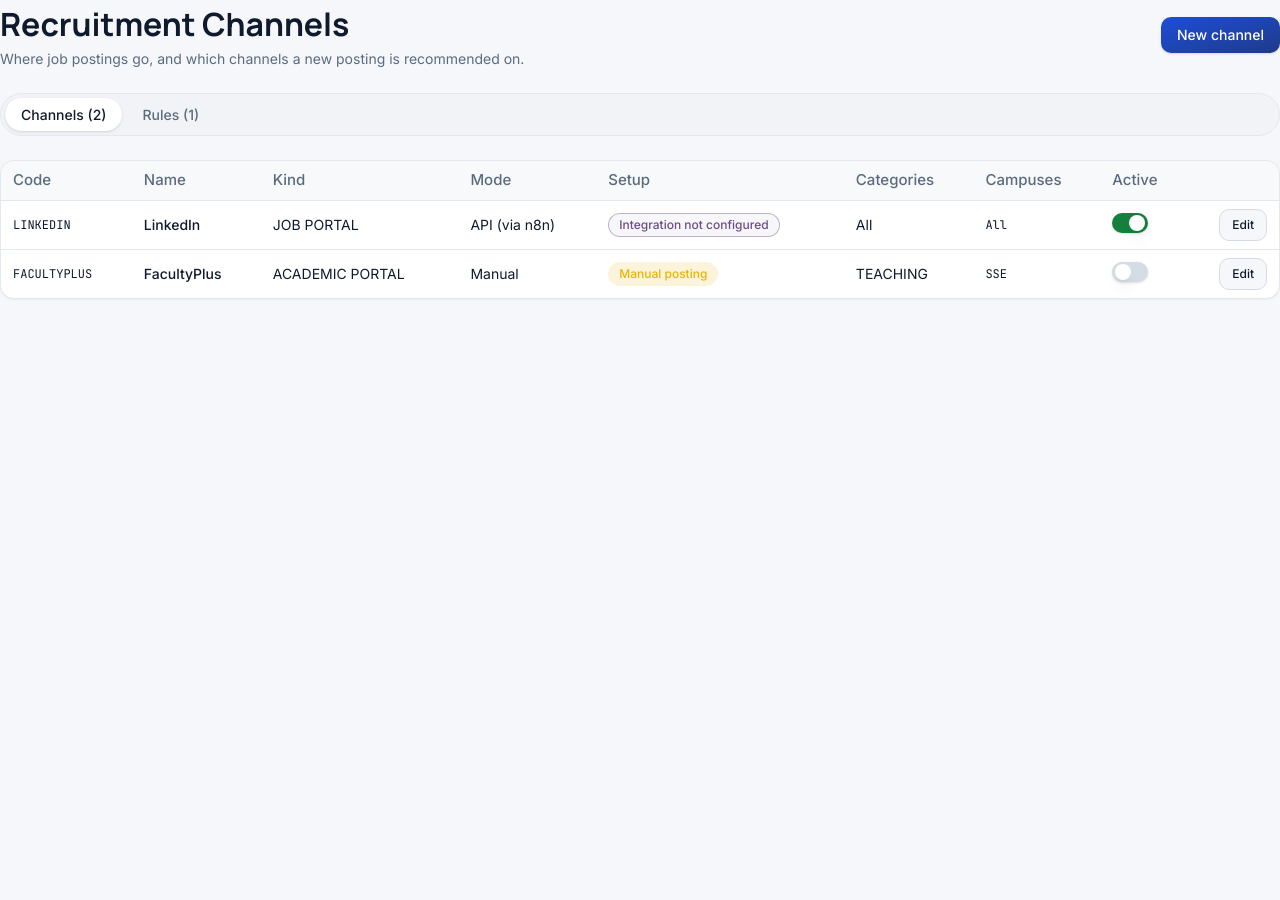
RecruitmentChannelsPage › creates a channel with an upper-cased code and the fields the form collects
Click the button "New channel": [1220, 34] box [1161, 16, 1279, 52]
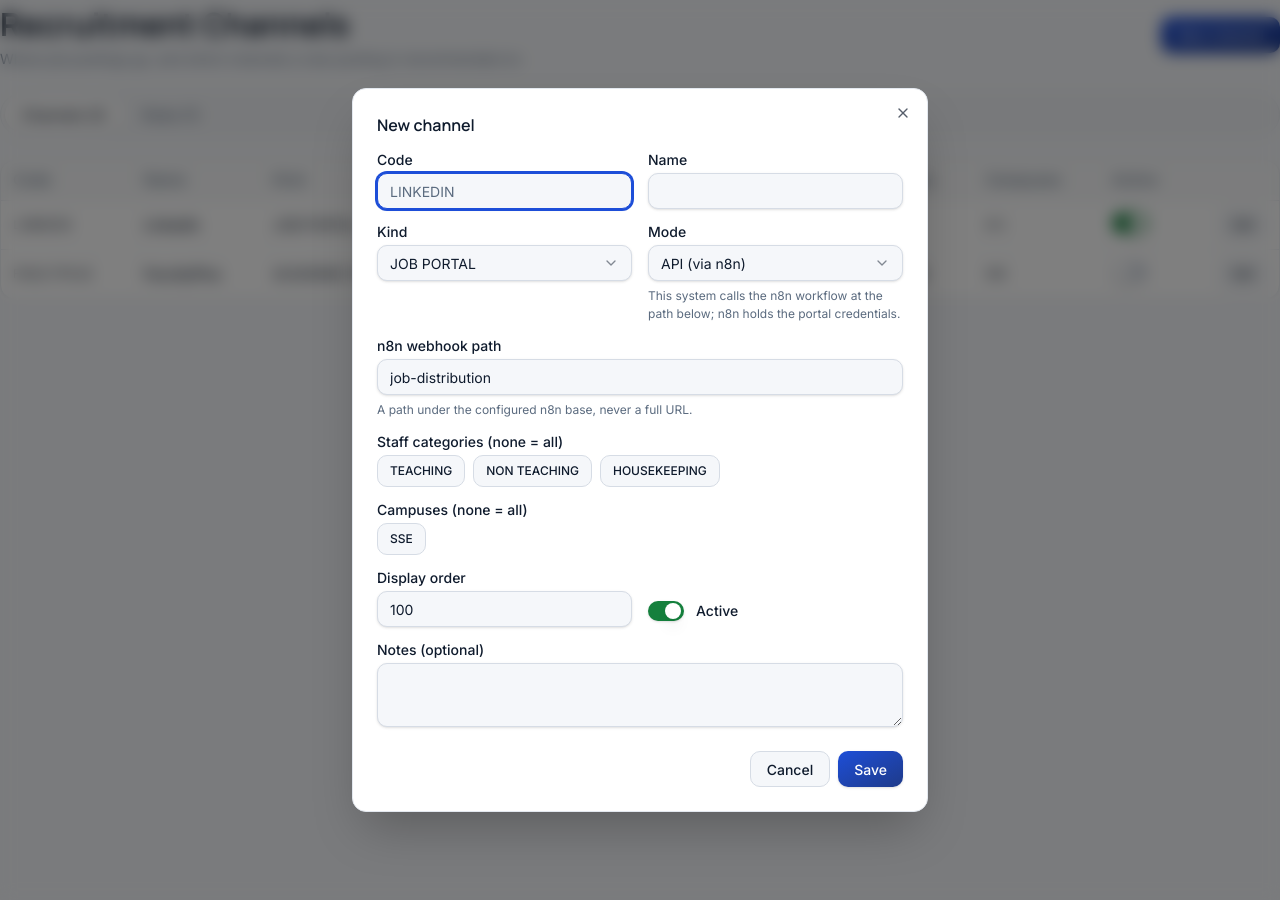
In the field labelled "Code": [504, 191] box [377, 173, 632, 209], type "newportal"
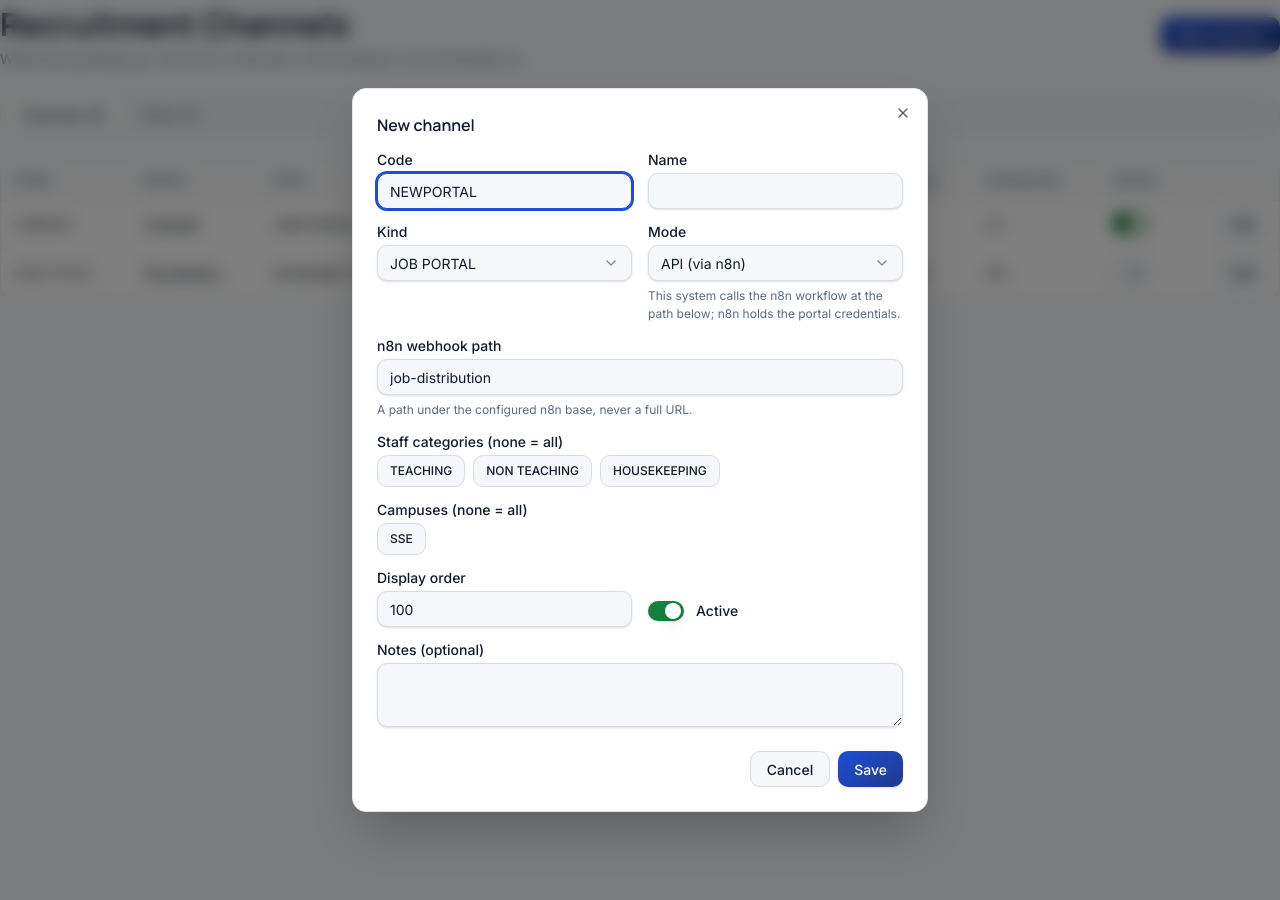
In the field labelled "Name": [776, 191] box [648, 173, 903, 209], type "New portal"
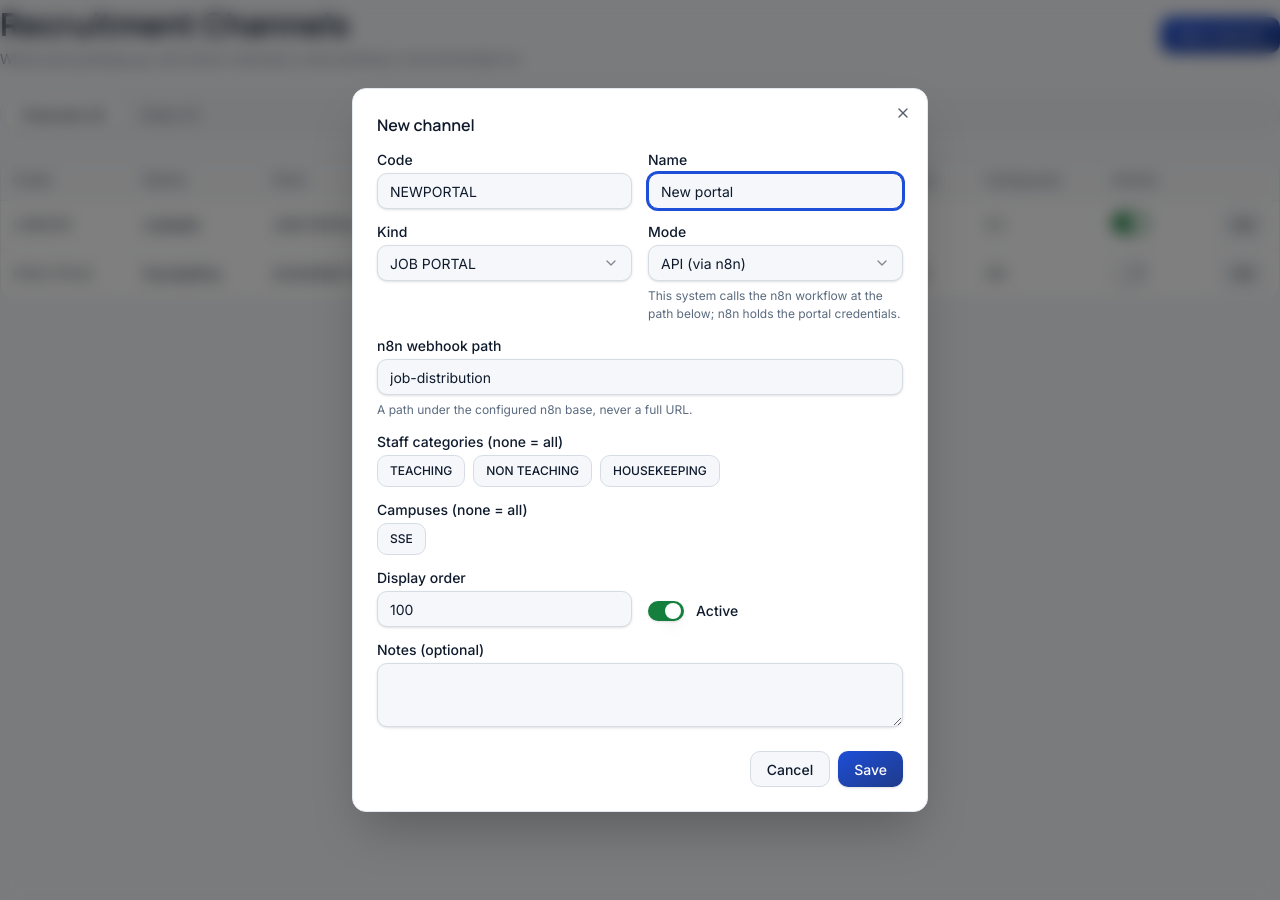
Click the button "NON TEACHING": [533, 471] box [473, 455, 592, 487]
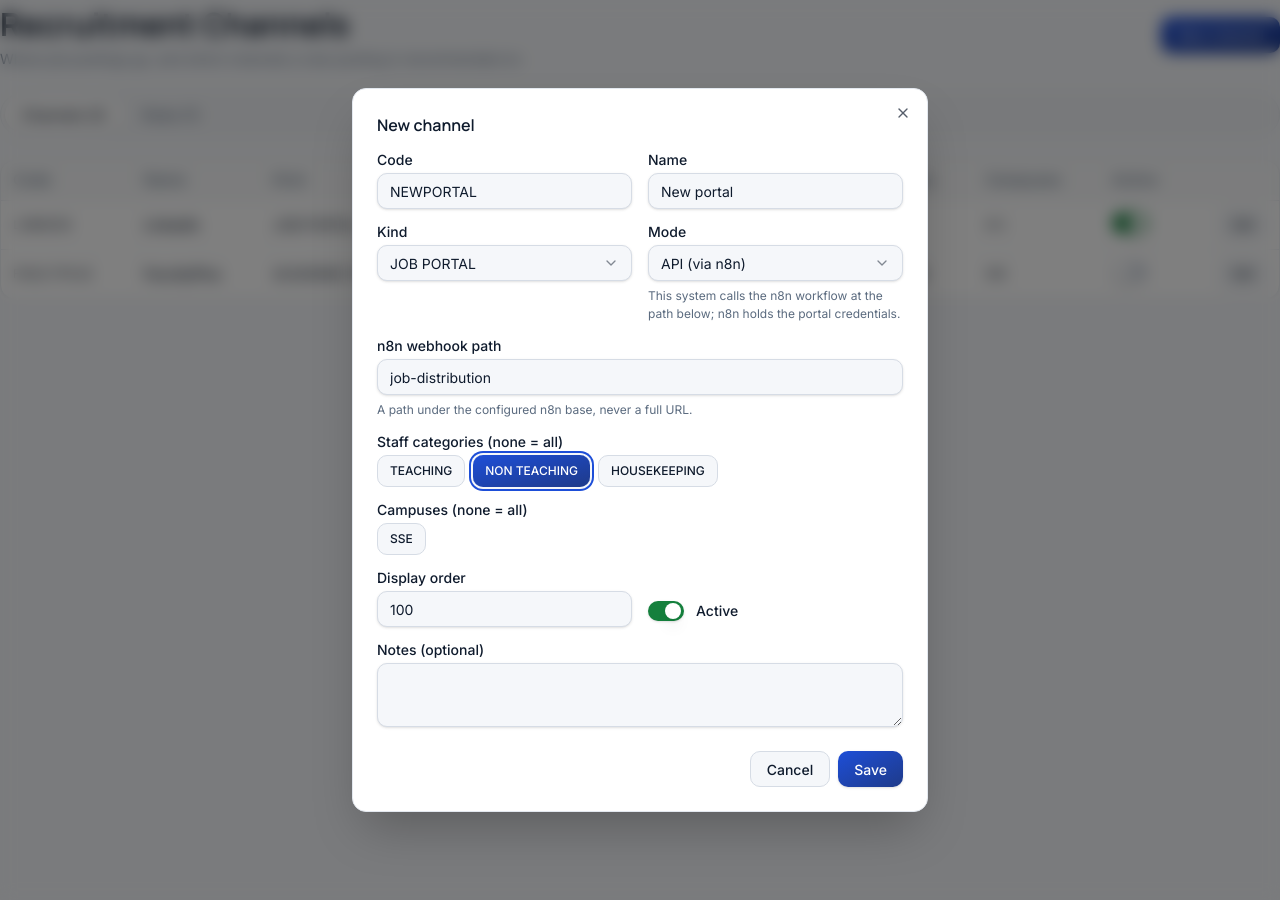
Click the button "Save": [871, 769] box [838, 751, 903, 787]
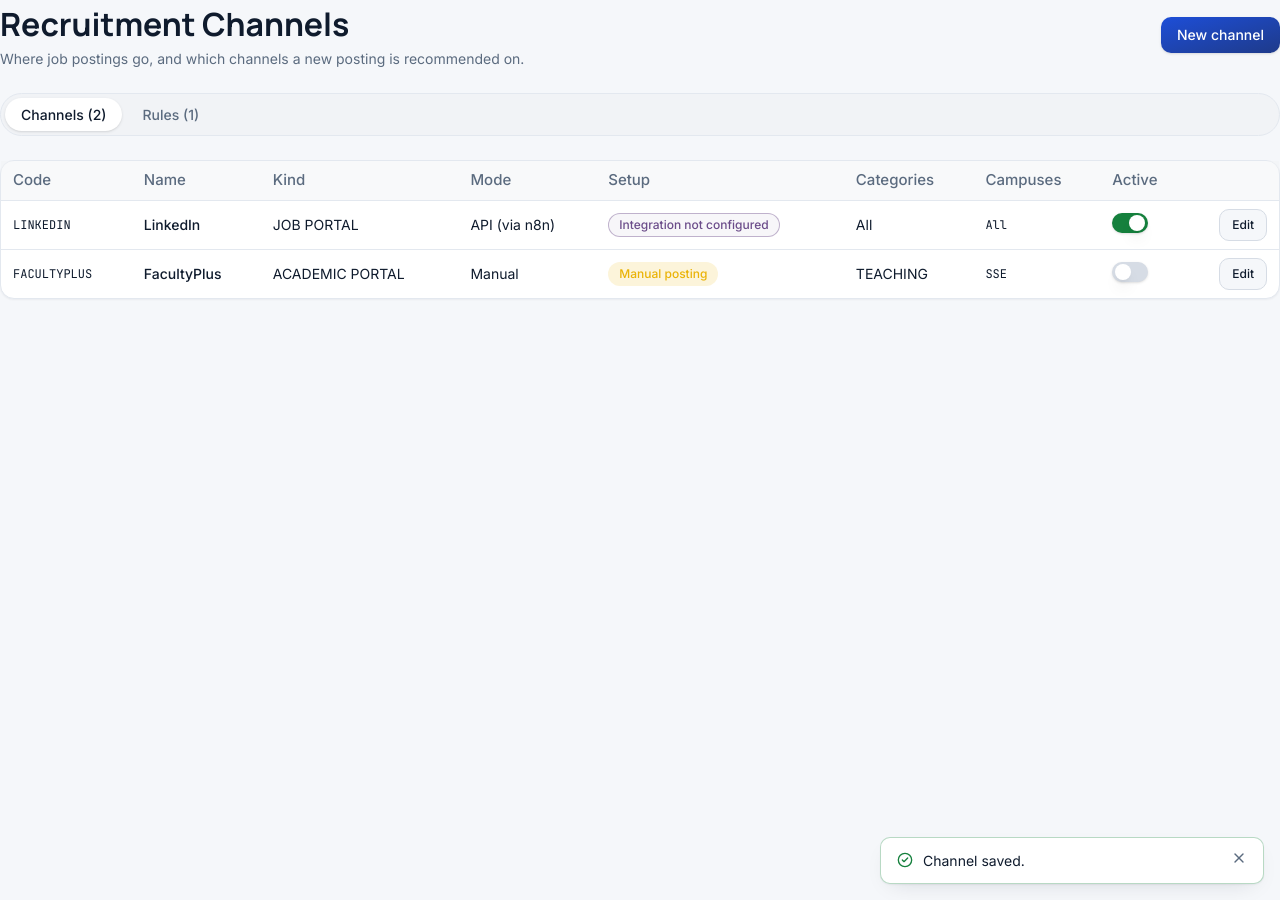
Expected: the text "Channel saved." is shown, [923, 852, 1025, 869]
